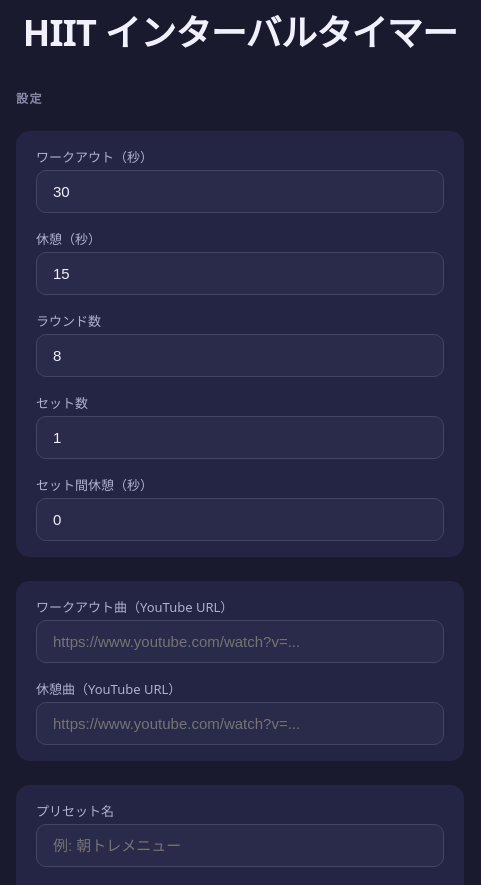
Test: App 統合テスト › 重複プリセット名は保存できない
Type "同名" into the field labelled "プリセット名" at (240, 846), box [36, 824, 444, 867]
(page scrolled)
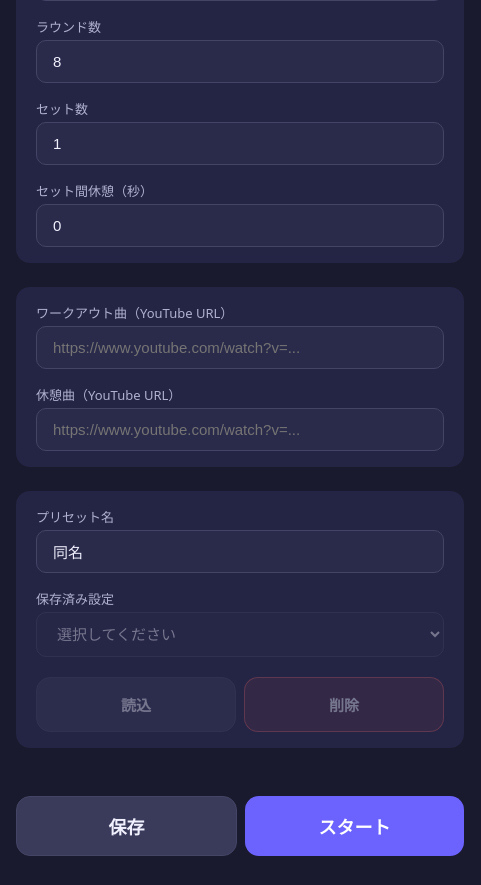
Click the button "保存" at (126, 826), box [16, 796, 237, 856]
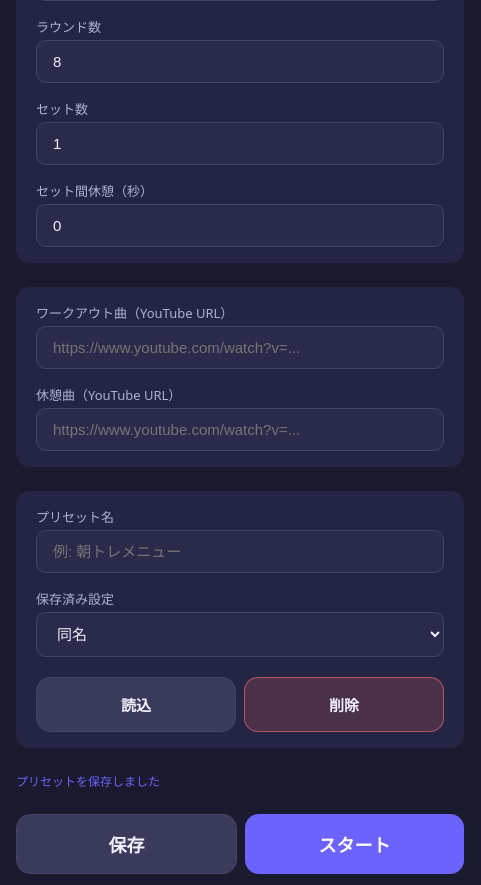
Type "同名" into the field labelled "プリセット名" at (240, 552), box [36, 530, 444, 573]
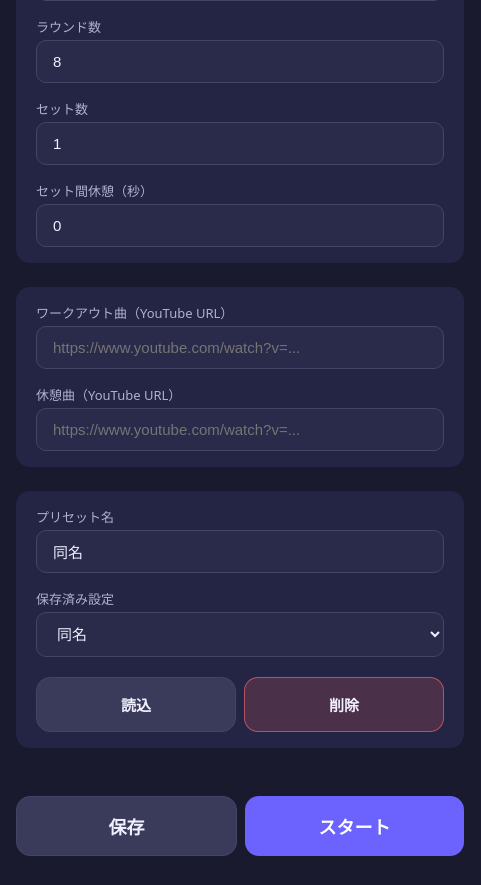
Click the button "保存" at (126, 826), box [16, 796, 237, 856]
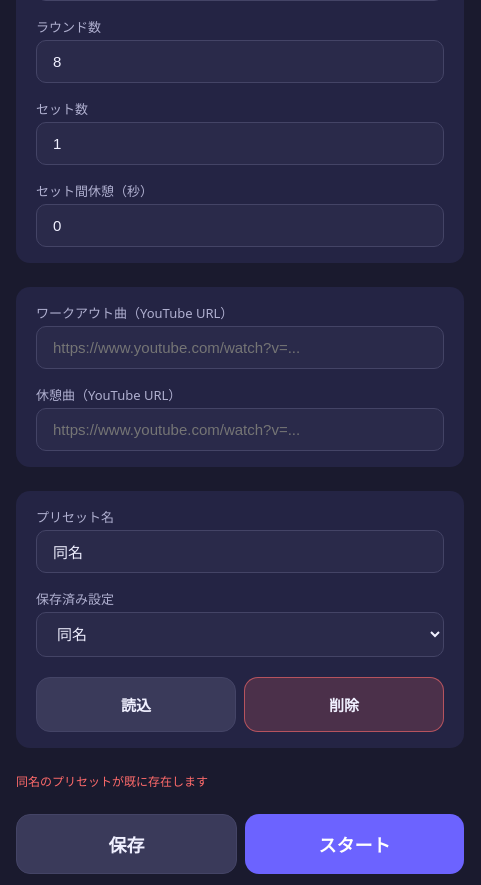
Check: the text "同名のプリセットが既に存在します" is shown, box [16, 773, 208, 790]
